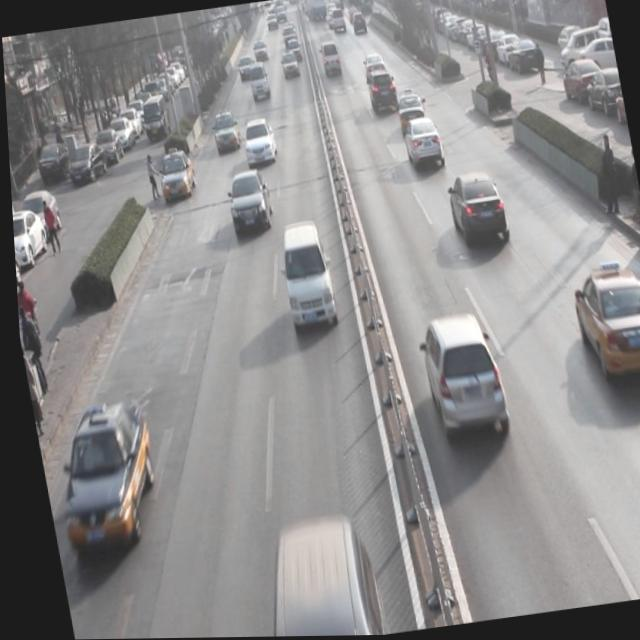car: (42, 404, 160, 554), (410, 308, 509, 449), (561, 258, 640, 389), (443, 170, 508, 250), (222, 172, 274, 239), (399, 116, 443, 172), (152, 149, 197, 203), (238, 117, 277, 168), (363, 67, 400, 116), (391, 88, 426, 138), (208, 109, 240, 153)
truck: (246, 523, 382, 637), (272, 220, 337, 334), (245, 62, 270, 103)
